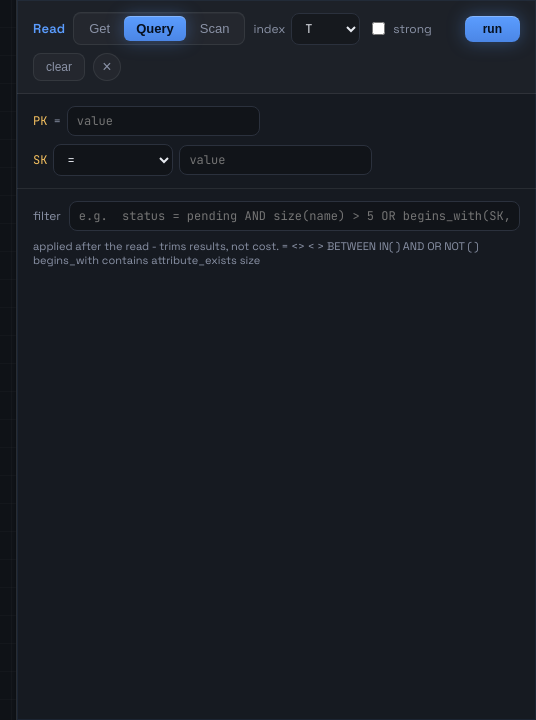
Test: QueryPanel › surfaces a filter parse error
Replace the text in the field with placeholder "status = pending" with "((". click: {"x": 294, "y": 216}
box: [69, 201, 520, 231]
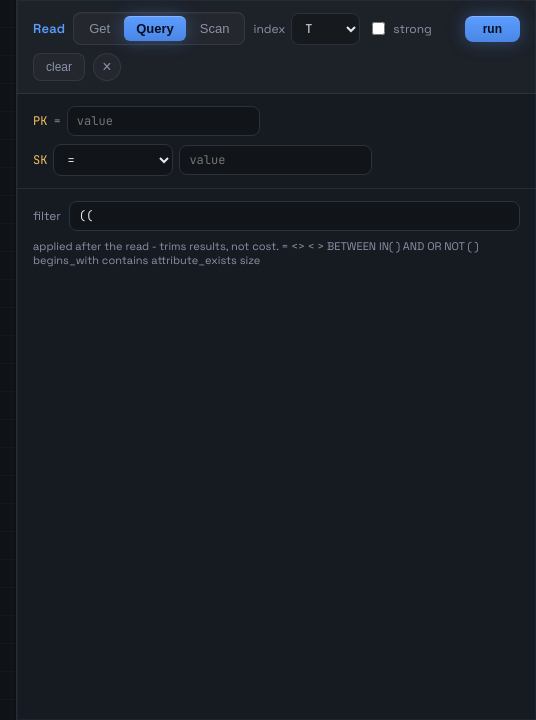
Click the button "run". click: {"x": 492, "y": 28}
box: [465, 16, 520, 42]
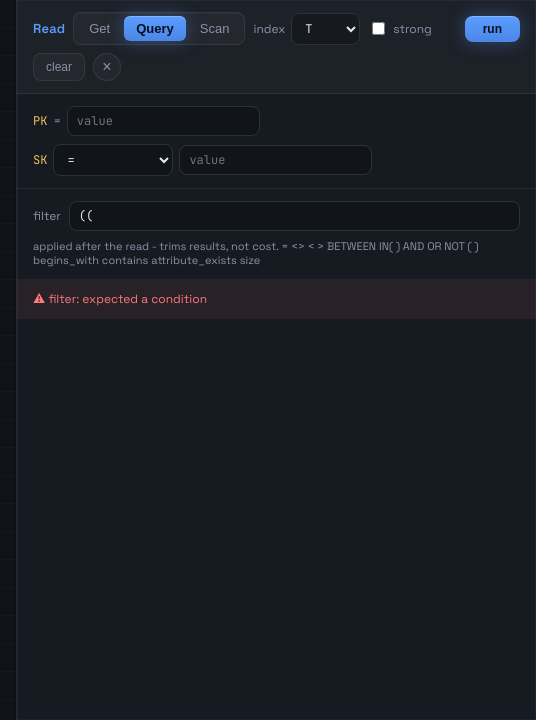
Result: the element with class "err" is shown at [17, 279, 535, 319]
Result: the text "⚠ filter: expected a condition" is shown at [33, 291, 207, 307]
